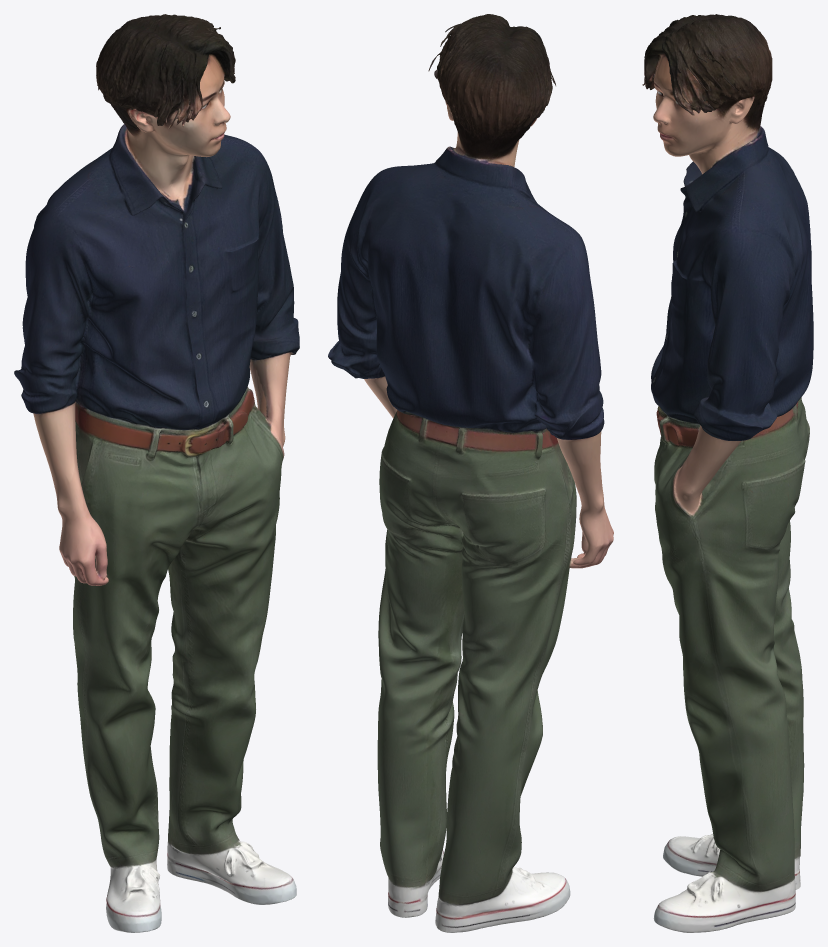
Rendered from person-casual-35.glb.
3 views of the same model, side by side, from view 1: azimuth 30°, elevation 25°; view 2: azimuth 150°, elevation 25°; view 3: azimuth 270°, elevation 25° (orthographic). The views are drawn at different scales.
Parts seen in each view (by area): view 1: mesh_0; view 2: mesh_0; view 3: mesh_0.
Part boxes in pixels (left/top/right/bottom): mesh_0: left=14, top=14, right=299, bottom=932; mesh_0: left=328, top=14, right=613, bottom=932; mesh_0: left=642, top=14, right=813, bottom=932.
Bounding box in the file's own units: 0.598 × 1.9 × 0.3403.
Materials: 1 (1 with a texture image).
